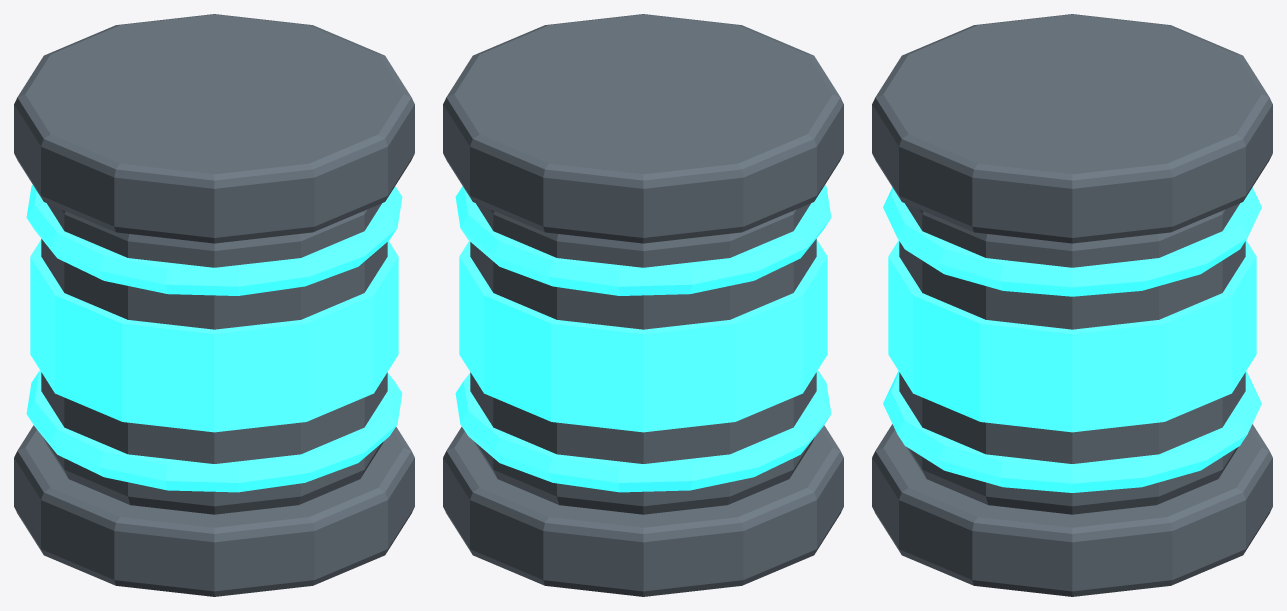
The model's file is item_augur9_core_cell.glb.
The picture shows the model from 3 angles, left to right: view 1: azimuth 30°, elevation 25°; view 2: azimuth 150°, elevation 25°; view 3: azimuth 270°, elevation 25°; orthographic projection.
Visible parts, largest first — view 1: Top cap, Exposed core band, Bottom cap, Core shell, Core lower ring, Core upper ring; view 2: Top cap, Exposed core band, Bottom cap, Core shell, Core lower ring, Core upper ring; view 3: Top cap, Exposed core band, Bottom cap, Core shell, Core lower ring, Core upper ring.
Part boxes in pixels (x1,y1,x2,y2): Top cap: (14, 14, 414, 243); Exposed core band: (30, 239, 398, 432); Bottom cap: (14, 425, 414, 596); Core shell: (41, 203, 387, 514); Core lower ring: (26, 370, 402, 492); Core upper ring: (26, 185, 402, 295); Top cap: (443, 14, 843, 243); Exposed core band: (459, 239, 827, 432); Bottom cap: (443, 425, 843, 596); Core shell: (470, 203, 816, 514); Core lower ring: (455, 370, 831, 492); Core upper ring: (455, 185, 831, 295); Top cap: (872, 14, 1272, 243); Exposed core band: (888, 240, 1256, 432); Bottom cap: (872, 424, 1272, 596); Core shell: (899, 203, 1245, 514); Core lower ring: (883, 371, 1261, 492); Core upper ring: (883, 187, 1261, 296).
Bounding box in the file's own units: 0.074 × 0.086 × 0.074.
